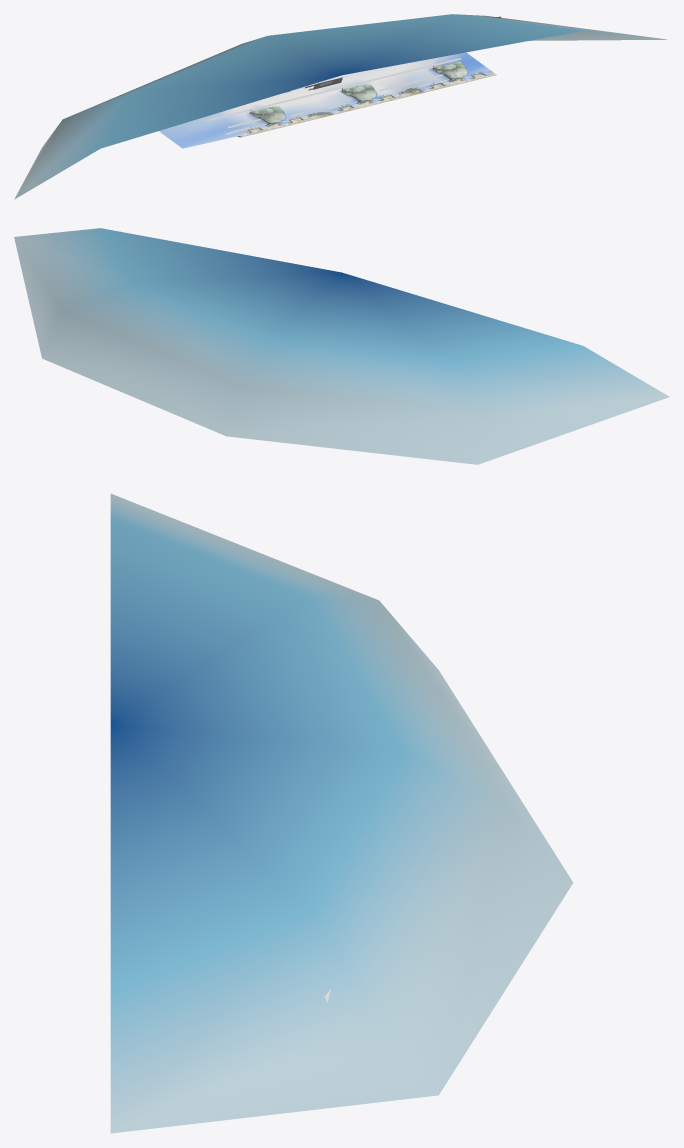
The model's file is Beach_Bg.fbx.
The picture shows the model from 3 angles, top to bottom: view 1: azimuth 30°, elevation 25°; view 2: azimuth 150°, elevation 25°; view 3: azimuth 270°, elevation 25°; orthographic projection. The views are drawn at different scales.
Parts seen in each view (by area): view 1: LightBg_01, SeaBg_01, WaveBg_01, StoneBg_03, GroundBg_01; view 2: LightBg_01; view 3: LightBg_01.
Boxes of the visible parts, x1=… form: LightBg_01: x1=14, y1=14, x2=667, y2=199; SeaBg_01: x1=159, y1=52, x2=492, y2=148; WaveBg_01: x1=205, y1=58, x2=472, y2=136; StoneBg_03: x1=250, y1=61, x2=467, y2=122; GroundBg_01: x1=241, y1=72, x2=496, y2=137; LightBg_01: x1=14, y1=228, x2=669, y2=464; LightBg_01: x1=110, y1=493, x2=573, y2=1133.
Bounding box in the file's own units: 1097181 × 126529 × 335223.
